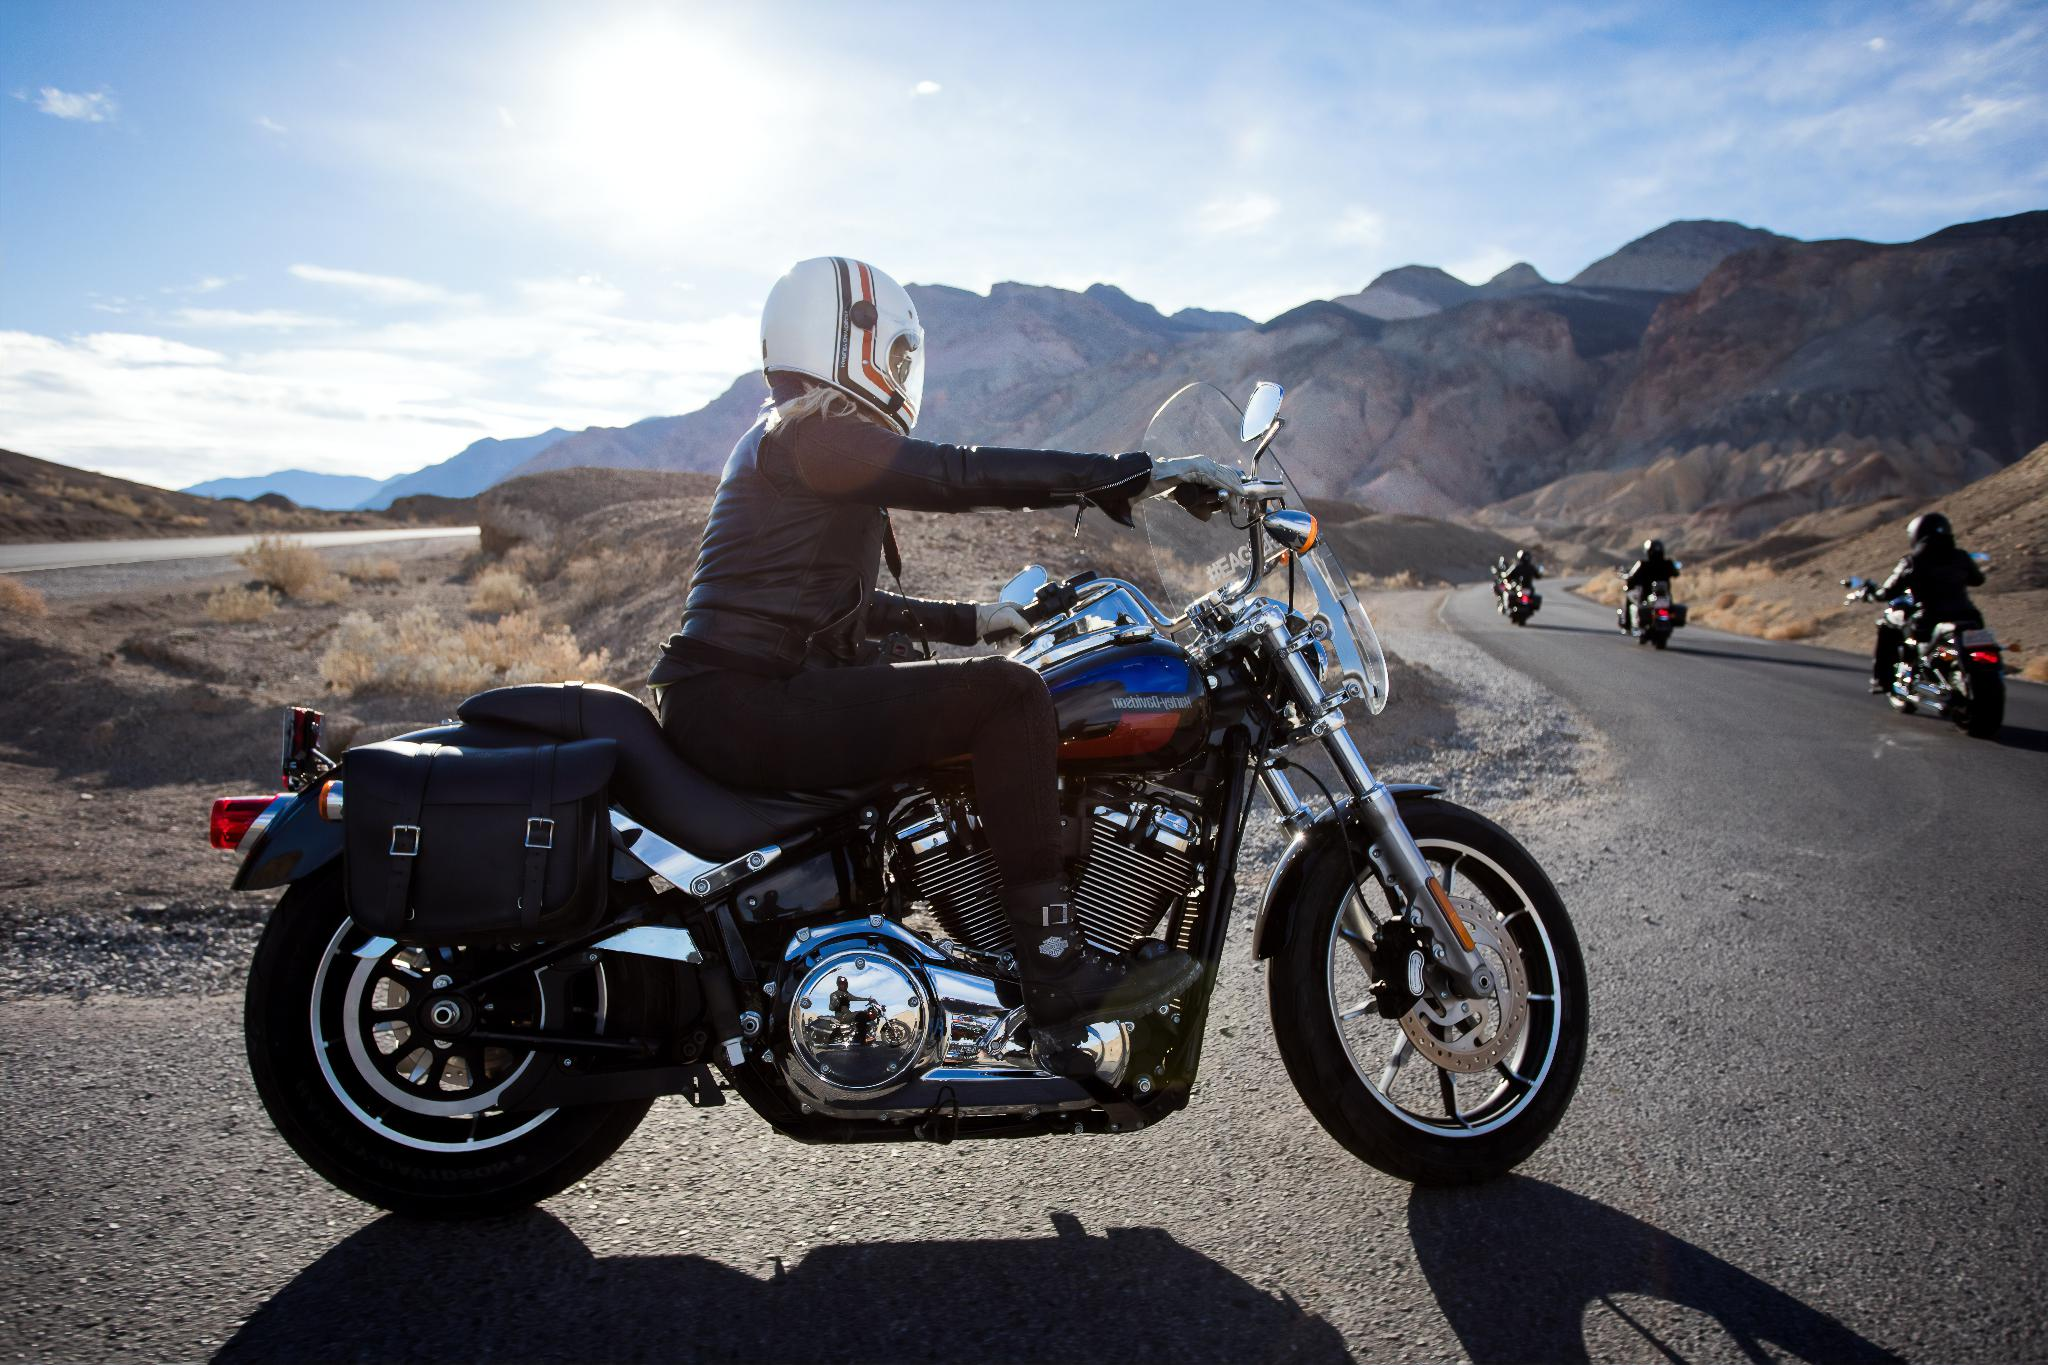motorcycle: (203, 329, 1673, 1312)
